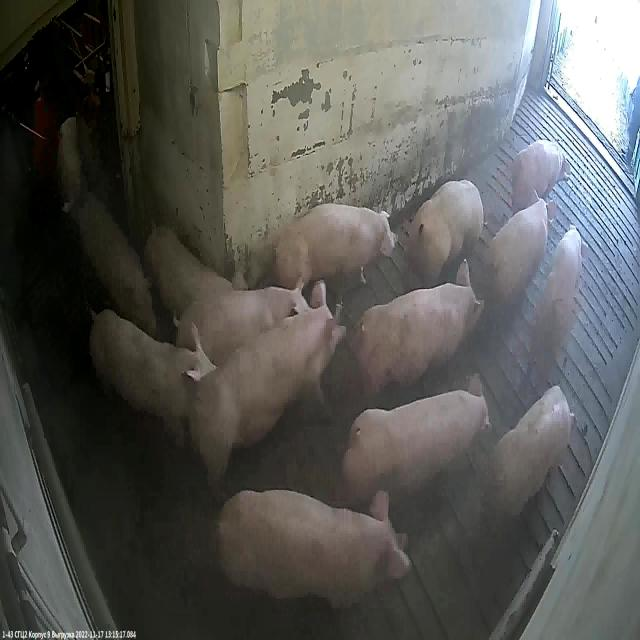pig: (196, 283, 346, 486), (218, 490, 412, 612), (344, 373, 489, 506), (90, 309, 218, 454), (360, 259, 484, 407), (484, 388, 575, 531), (176, 277, 312, 367), (276, 205, 400, 289), (81, 203, 156, 334), (150, 229, 248, 320), (490, 187, 556, 309), (532, 230, 586, 371), (409, 180, 483, 282), (516, 143, 570, 209), (59, 117, 89, 220)
